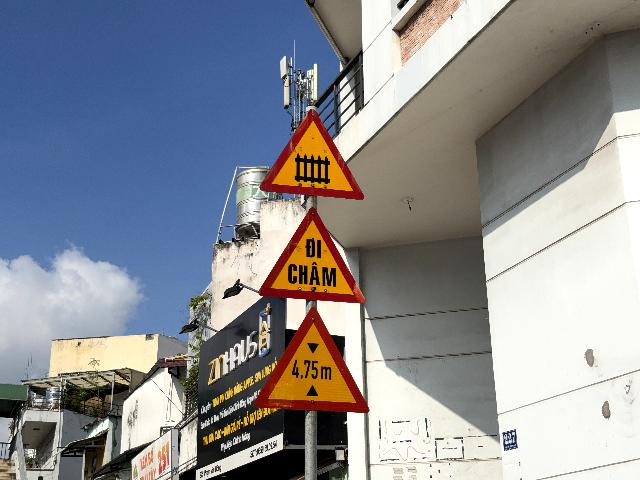chieu-cao-tinh-khong-thuc-te: (254, 305, 369, 413)
di-cham: (260, 207, 366, 303)
noi-giao-nhau-voi-duong-sat-co-rao-chan: (258, 108, 365, 200)
